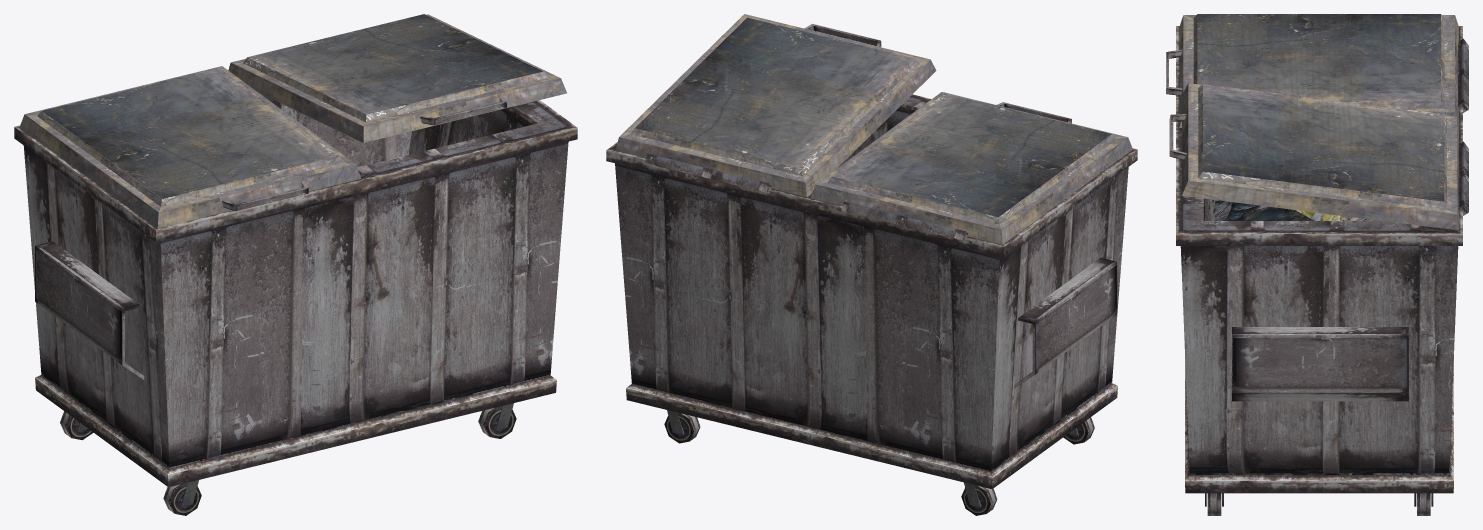
File: Model_Container_02.fbx
The picture shows the model from 3 angles, left to right: view 1: azimuth 30°, elevation 25°; view 2: azimuth 150°, elevation 25°; view 3: azimuth 270°, elevation 25°; orthographic projection. The views are drawn at different scales.
Visible parts, largest first — view 1: container; view 2: container; view 3: container.
Part boxes in pixels (x1,y1,x2,y2): container: [14, 14, 577, 515]; container: [606, 14, 1137, 515]; container: [1166, 14, 1468, 515].
Bounding box in the file's own units: 210 × 167 × 126.
